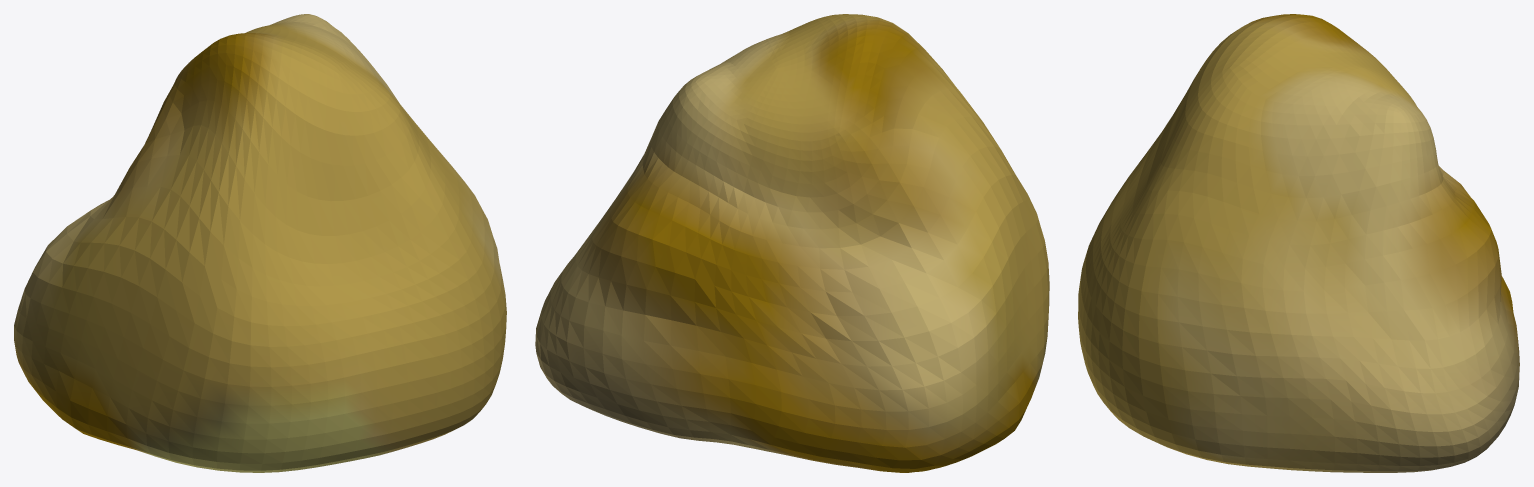
Rendered from Tas.fbx.
3 renders of one model, left to right at view 1: azimuth 30°, elevation 25°; view 2: azimuth 150°, elevation 25°; view 3: azimuth 270°, elevation 25°, orthographic. The views are drawn at different scales.
Visible parts, largest first — view 1: Cylindre; view 2: Cylindre; view 3: Cylindre.
Boxes of the visible parts, x1=… form: Cylindre: x1=14, y1=14, x2=506, y2=472; Cylindre: x1=535, y1=14, x2=1049, y2=472; Cylindre: x1=1078, y1=14, x2=1519, y2=472.
Size of the model in its own units: 0.9858 by 0.8101 by 0.9032.
